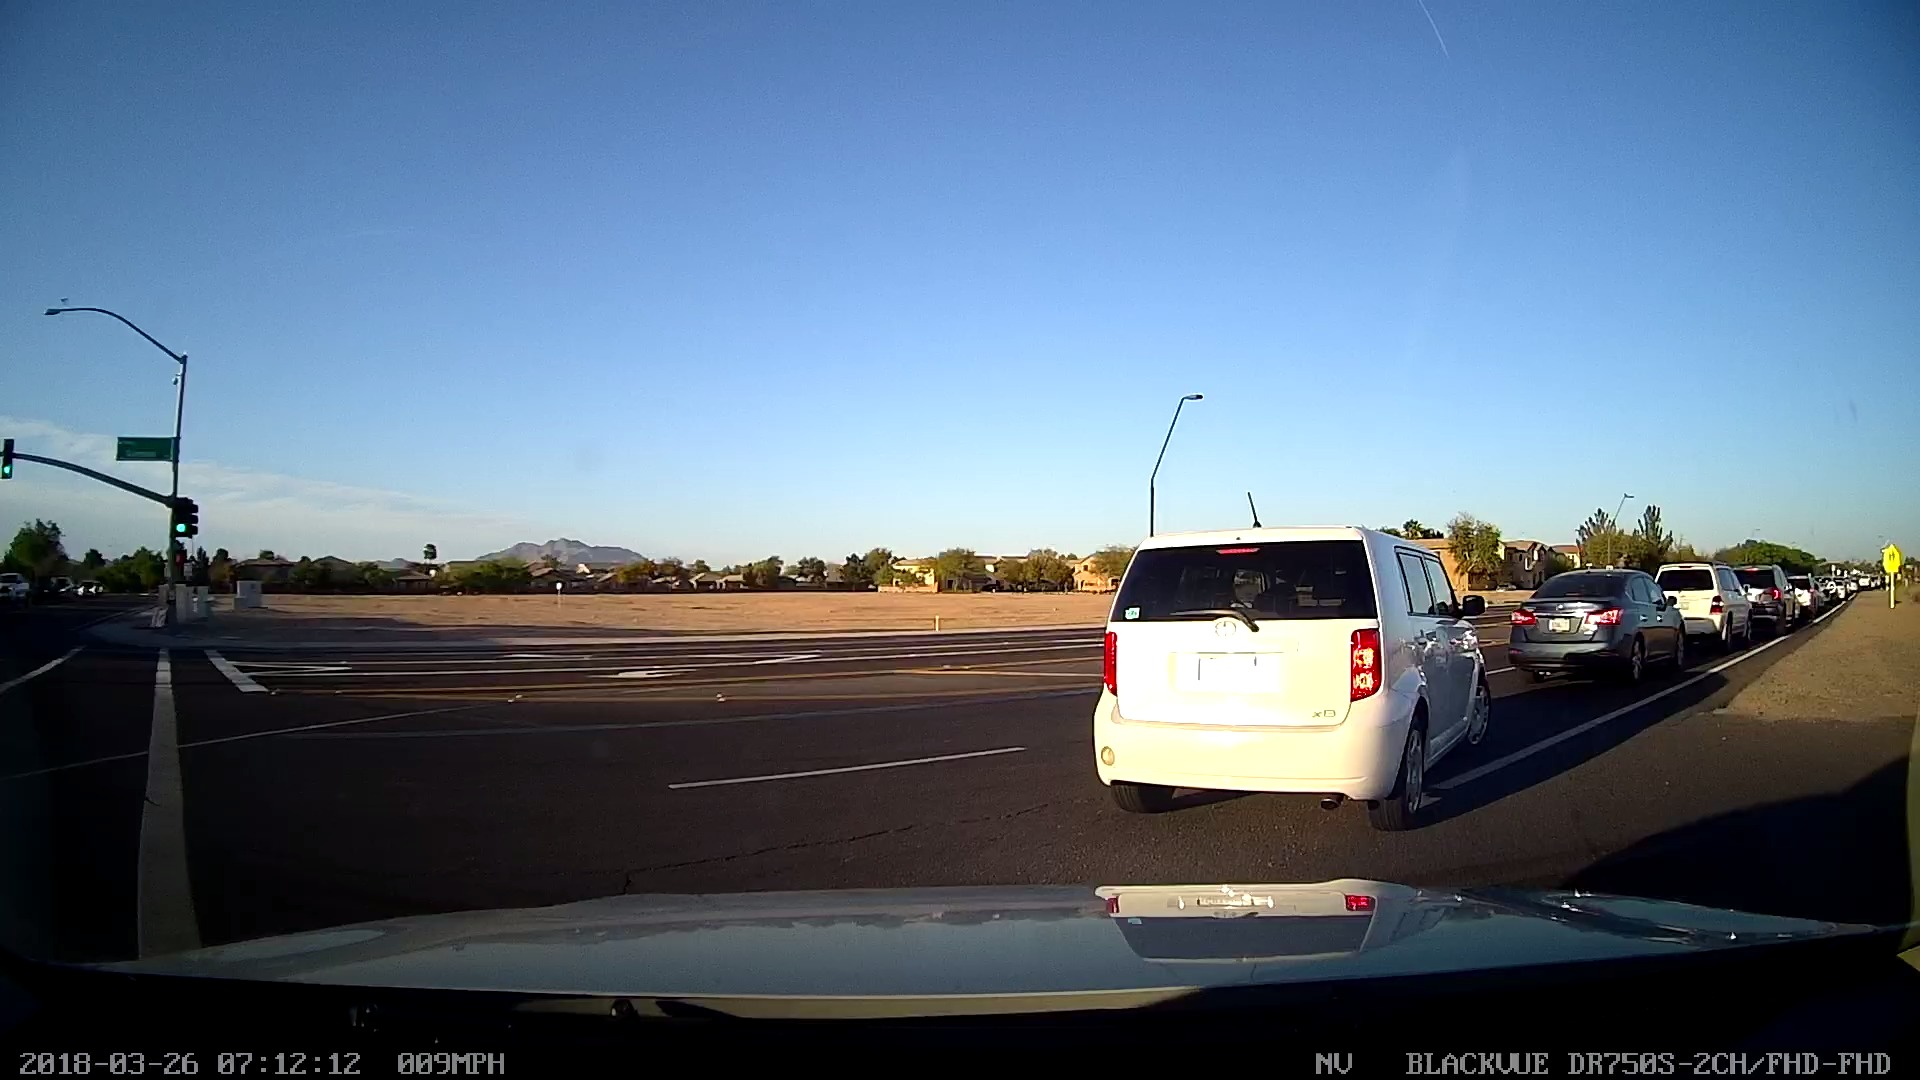plate: (1185, 651, 1267, 692), (1542, 611, 1571, 640)
vehicle: (1081, 525, 1479, 806), (1508, 570, 1684, 676), (1660, 560, 1750, 651), (1738, 560, 1794, 632)
